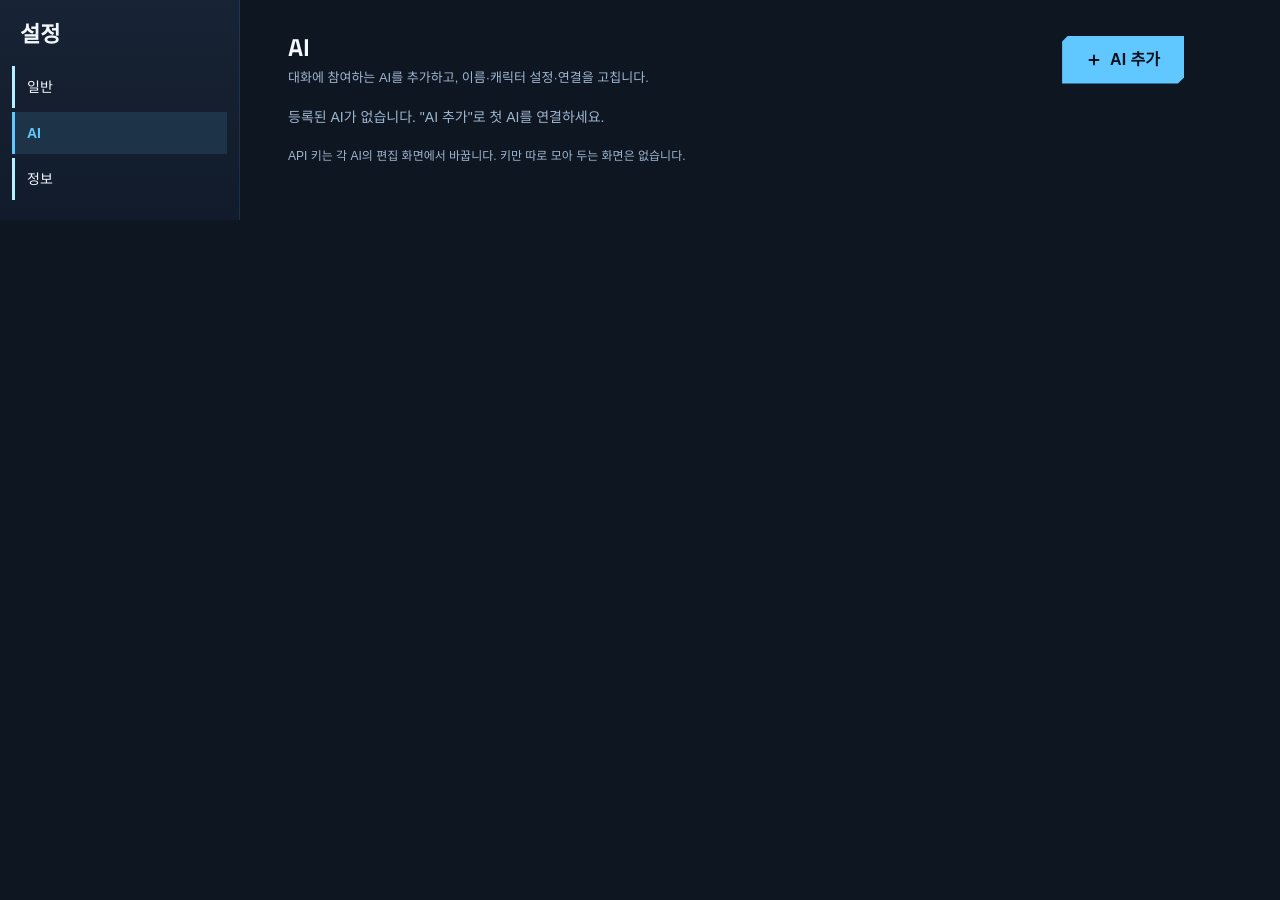
SettingsTabs — AI add entry point › "AI 추가" opens the AI connect dialog
Click the button with test id "settings-ai-add" at (1123, 60), box [1062,36,1184,84]
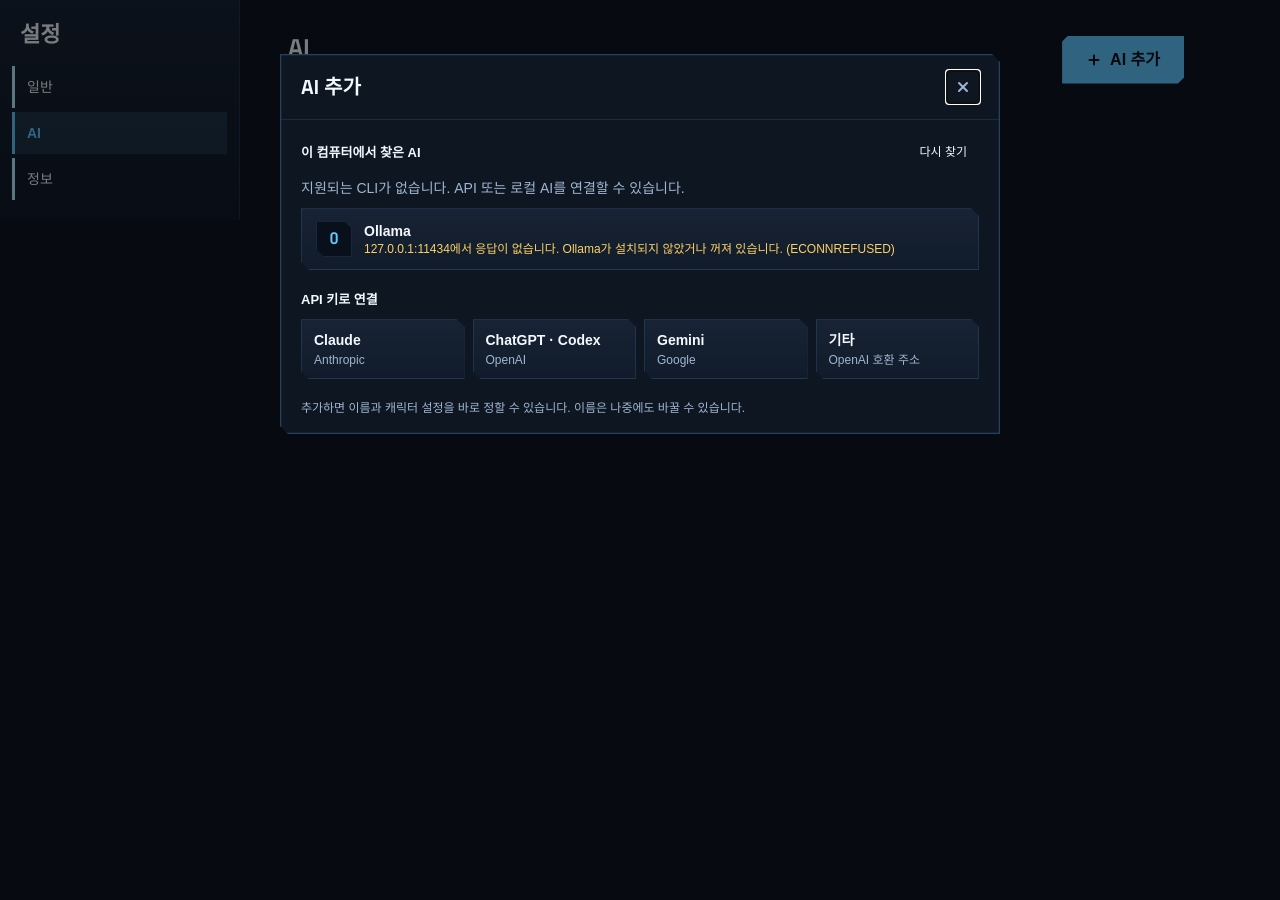
Expected: the dialog with test id "provider-connect-dialog" is shown, [280,54,1000,434]
